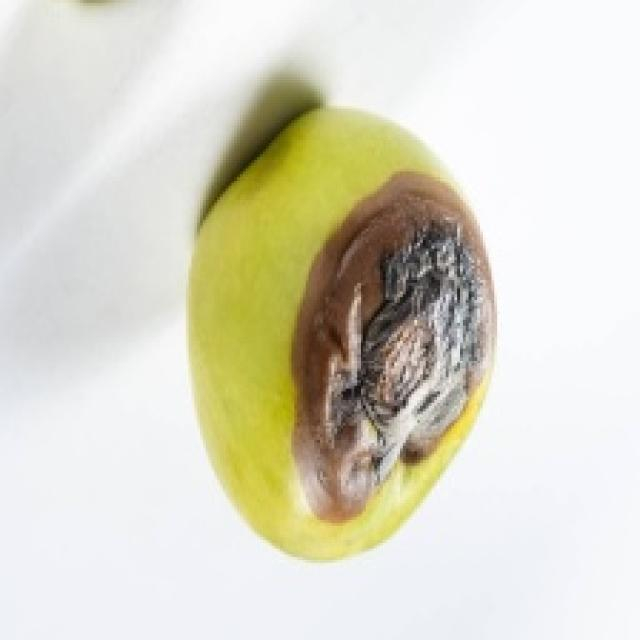rotten_apple: (194, 110, 488, 558)
